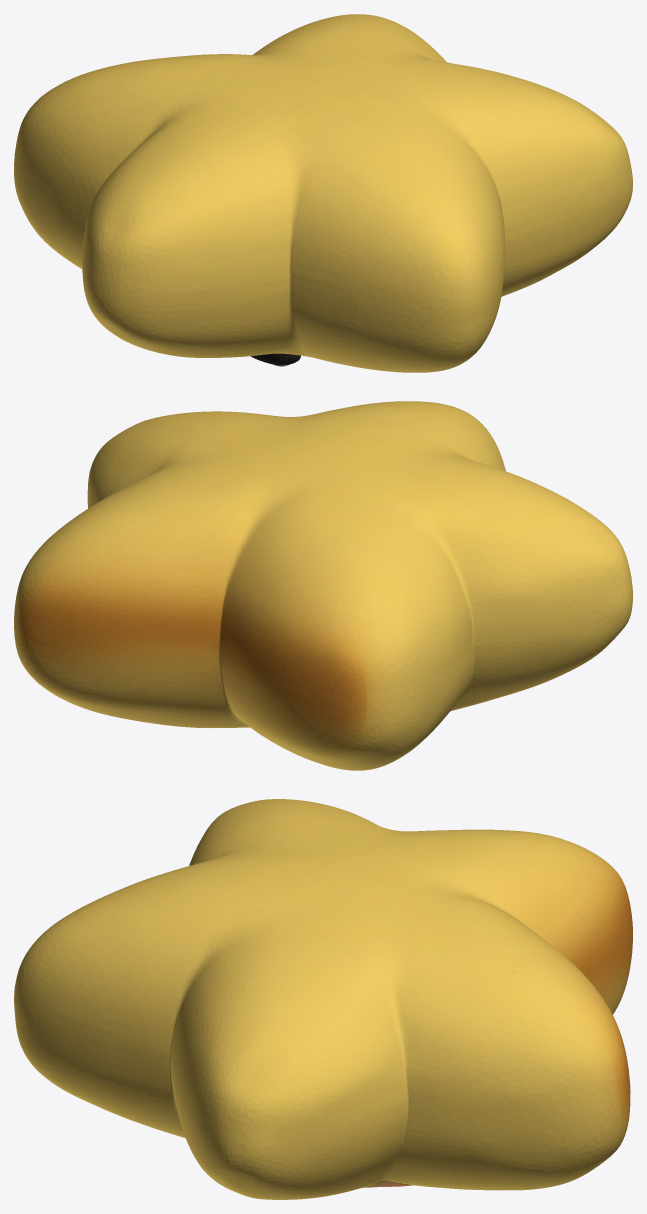
The model's file is star_8.glb.
The picture shows the model from 3 angles, top to bottom: view 1: azimuth 30°, elevation 25°; view 2: azimuth 150°, elevation 25°; view 3: azimuth 270°, elevation 25°; orthographic projection. The views are drawn at different scales.
Visible parts, largest first — view 1: tripo_node_293a6cdc-adac-4125-ac23-b615643fbcf4; view 2: tripo_node_293a6cdc-adac-4125-ac23-b615643fbcf4; view 3: tripo_node_293a6cdc-adac-4125-ac23-b615643fbcf4.
Part boxes in pixels (box(x1,y1,x2,y2)): tripo_node_293a6cdc-adac-4125-ac23-b615643fbcf4: box(14, 14, 632, 372); tripo_node_293a6cdc-adac-4125-ac23-b615643fbcf4: box(14, 401, 632, 770); tripo_node_293a6cdc-adac-4125-ac23-b615643fbcf4: box(14, 799, 632, 1199).
Bounding box in the file's own units: 0.9799 × 0.4427 × 0.9051.
Materials: 1 (1 with a texture image).
